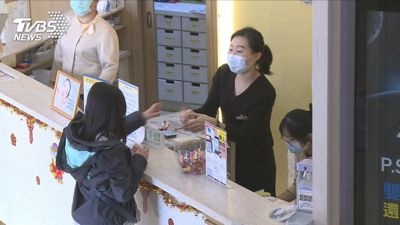with-mask: (223, 30, 263, 79), (274, 115, 312, 160), (62, 1, 104, 18)
